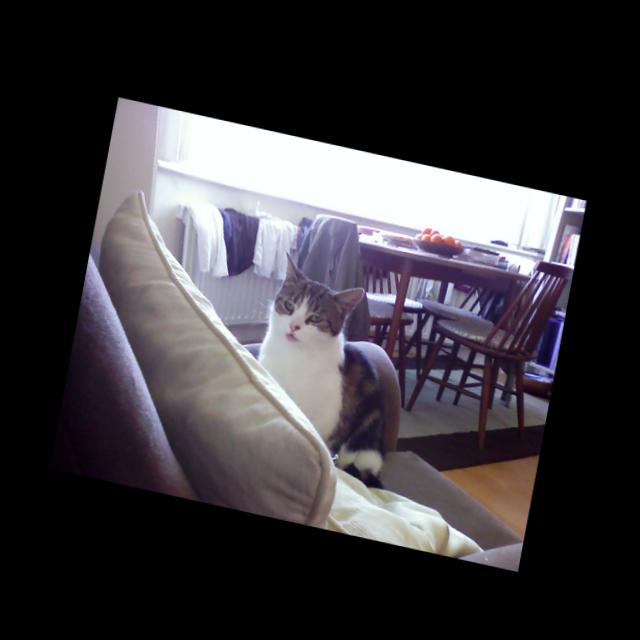animals: (274, 249, 367, 340)
